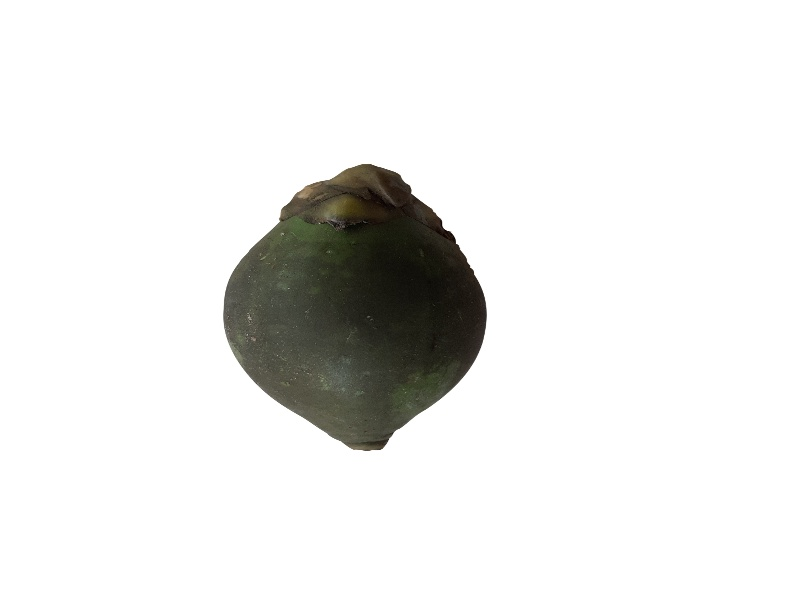arecanut: (220, 162, 487, 459)
